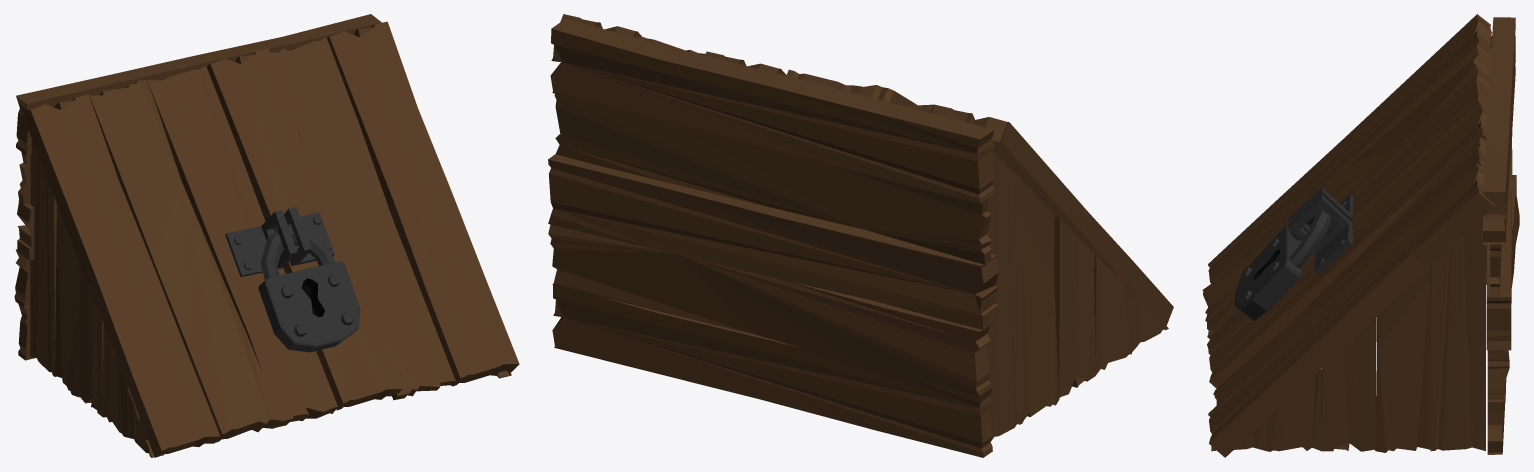
Rendered from Дверь в подвал.fbx.
The picture shows the model from 3 angles, left to right: view 1: azimuth 30°, elevation 25°; view 2: azimuth 150°, elevation 25°; view 3: azimuth 270°, elevation 25°; orthographic projection. The views are drawn at different scales.
Visible parts, largest first — view 1: Дверь, Замок, Душка; view 2: Дверь; view 3: Дверь, Замок, Душка.
Boxes of the visible parts, left/top/right/bottom form: Дверь: left=14, top=14, right=519, bottom=457; Замок: left=258, top=261, right=360, bottom=352; Душка: left=260, top=226, right=334, bottom=280; Дверь: left=548, top=14, right=1173, bottom=457; Дверь: left=1202, top=14, right=1519, bottom=457; Замок: left=1235, top=225, right=1301, bottom=320; Душка: left=1289, top=210, right=1331, bottom=268.
Size of the model in its own units: 237 by 165 by 176.
